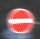No entry: (5, 6, 35, 34)
